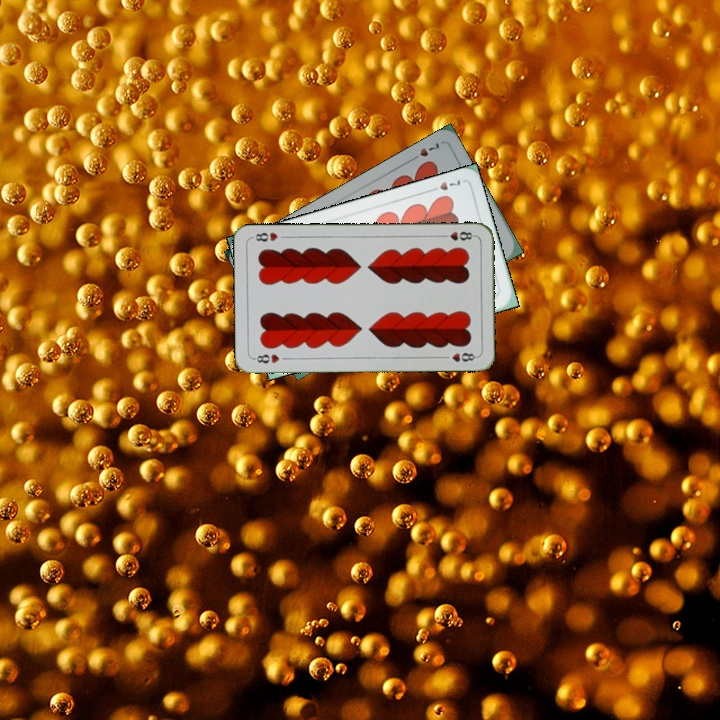H7: (406, 138, 442, 164), (425, 175, 463, 195)
H8: (437, 228, 478, 243), (250, 350, 282, 366)
